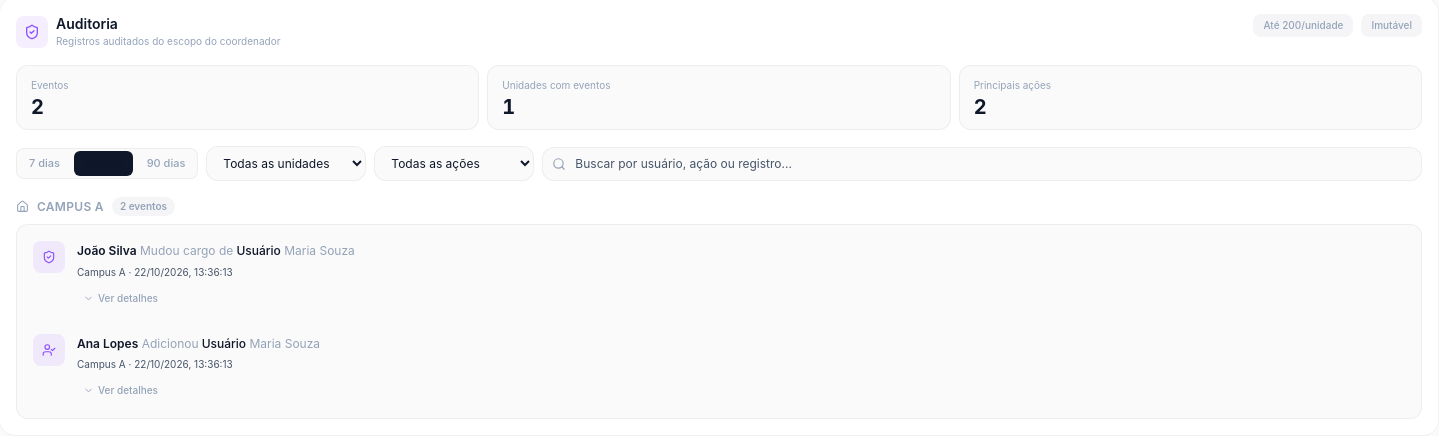
it: CoordinatorAuditTab — auditoria READ-ONLY sobre o escopo visível (V1) › filtro por ação (derivado dos dados reais) restringe os registros
Expected: the element with test id "audit-event-a" is shown, [33,241,355,308]
Select "membership_added" in the dropdown with test id "audit-action-filter": (454, 164) [374,146,534,181]
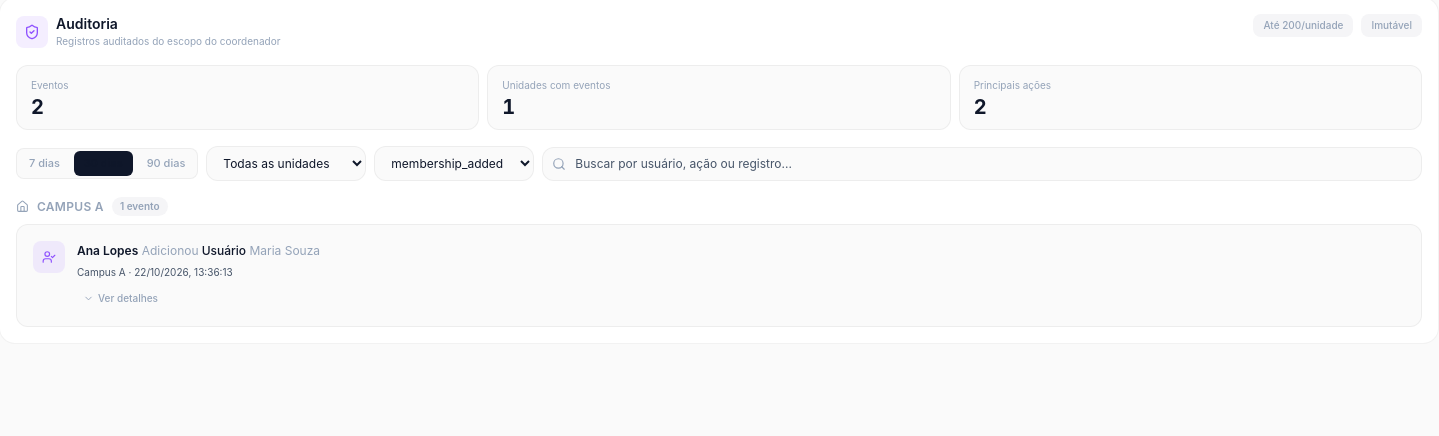
Expected: the element with test id "audit-event-b" is shown, [33,241,320,308]
Expected: the element with test id "audit-event-a" is gone
